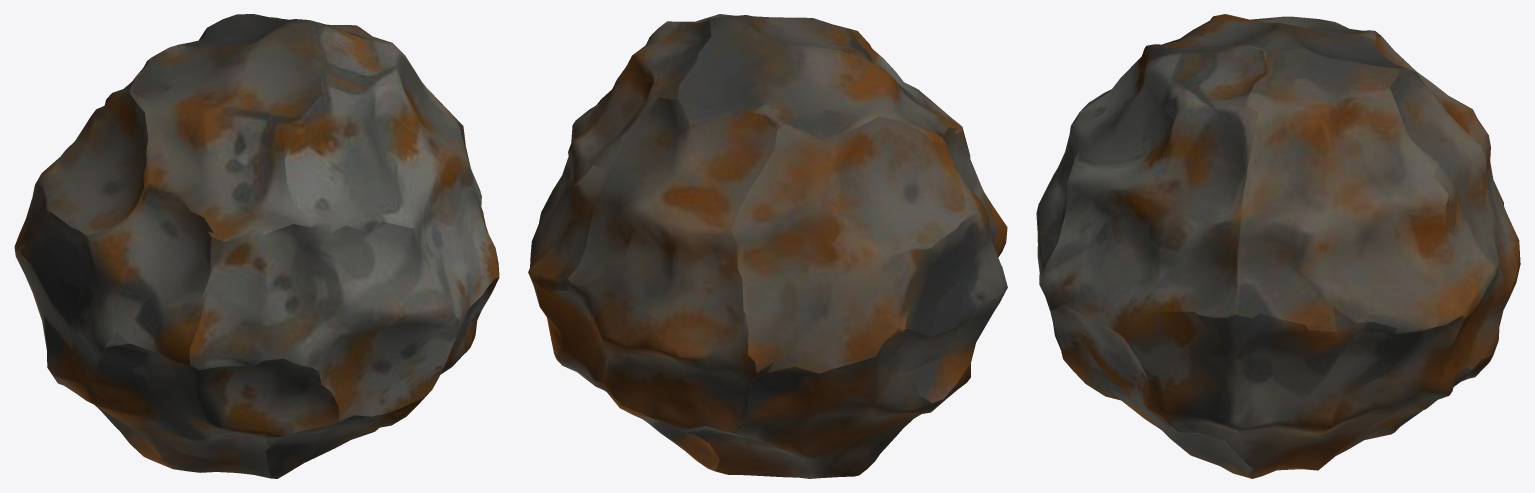
File: nickel_iron.glb
3 views of the same model, side by side, from view 1: azimuth 30°, elevation 25°; view 2: azimuth 150°, elevation 25°; view 3: azimuth 270°, elevation 25° (orthographic). The views are drawn at different scales.
Parts seen in each view (by area): view 1: nickel_iron; view 2: nickel_iron; view 3: nickel_iron.
Boxes of the visible parts, x1,y1,x2,y2 form: nickel_iron: (14, 14, 499, 478); nickel_iron: (528, 14, 1007, 478); nickel_iron: (1036, 14, 1520, 478).
Bounding box in the file's own units: 0.992 × 0.9965 × 1.
1 material, 1 textured.
